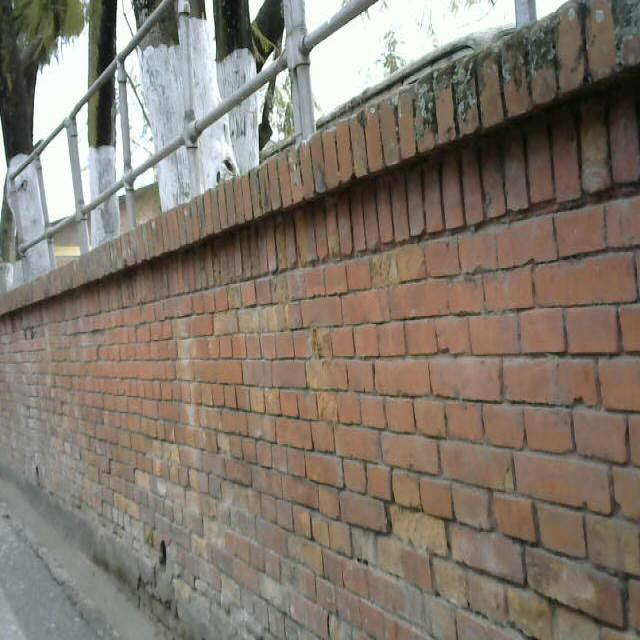Buildings: (0, 66, 640, 640)
trees: (126, 0, 264, 203), (71, 1, 140, 242), (2, 3, 59, 253)
